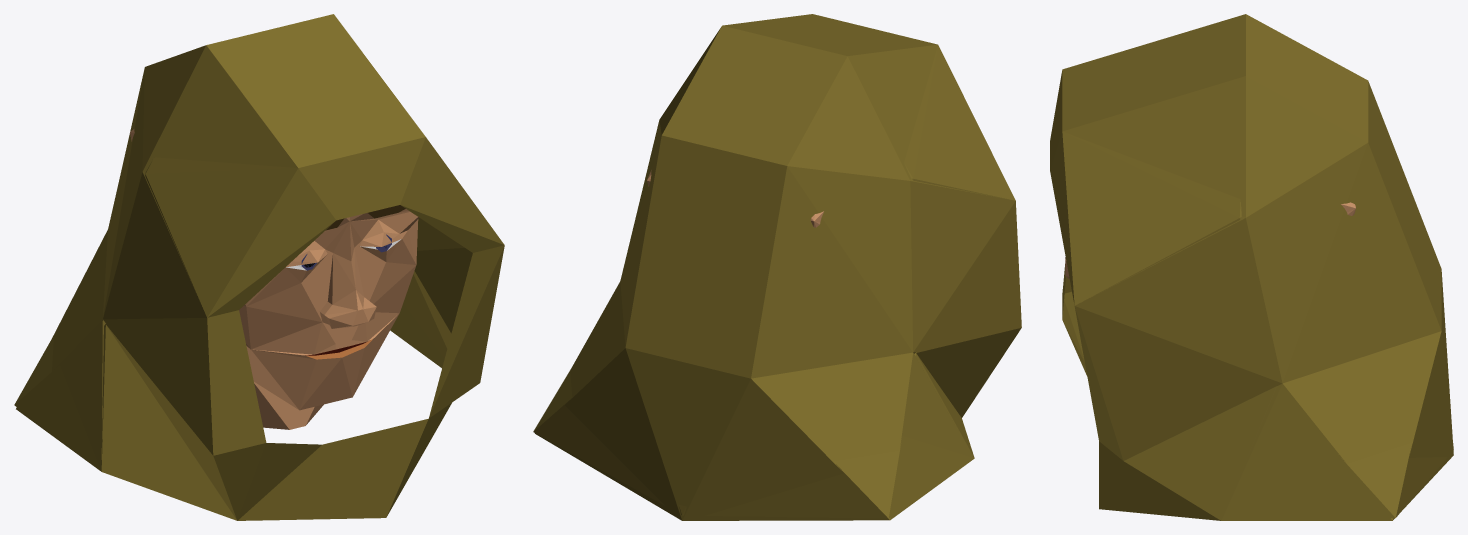
The model's file is model_61_npc_head.obj.
3 renders of one model, left to right at view 1: azimuth 30°, elevation 25°; view 2: azimuth 150°, elevation 25°; view 3: azimuth 270°, elevation 25°, orthographic.
Parts seen in each view (by area): view 1: 61; view 2: 61; view 3: 61.
Boxes of the visible parts, x1,y1,x2,y2 form: 61: (14,14,504,520); 61: (533,14,1021,520); 61: (1050,14,1453,520).
Bounding box in the file's own units: 136 × 160 × 132.
